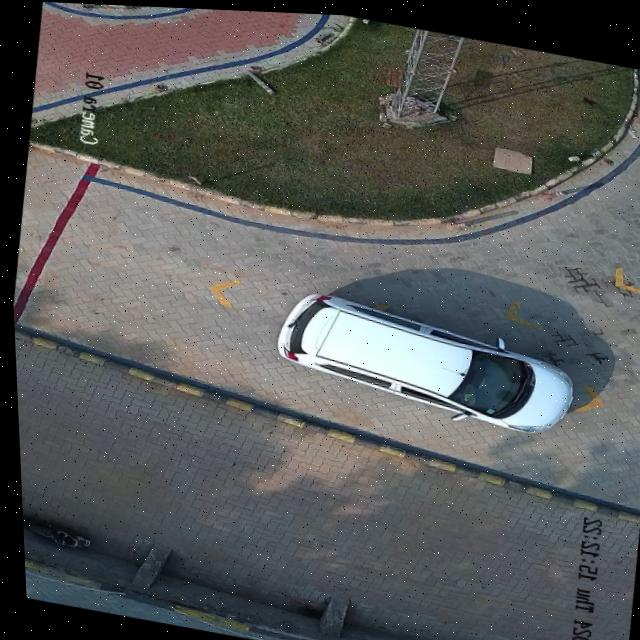car: (275, 291, 567, 427)
